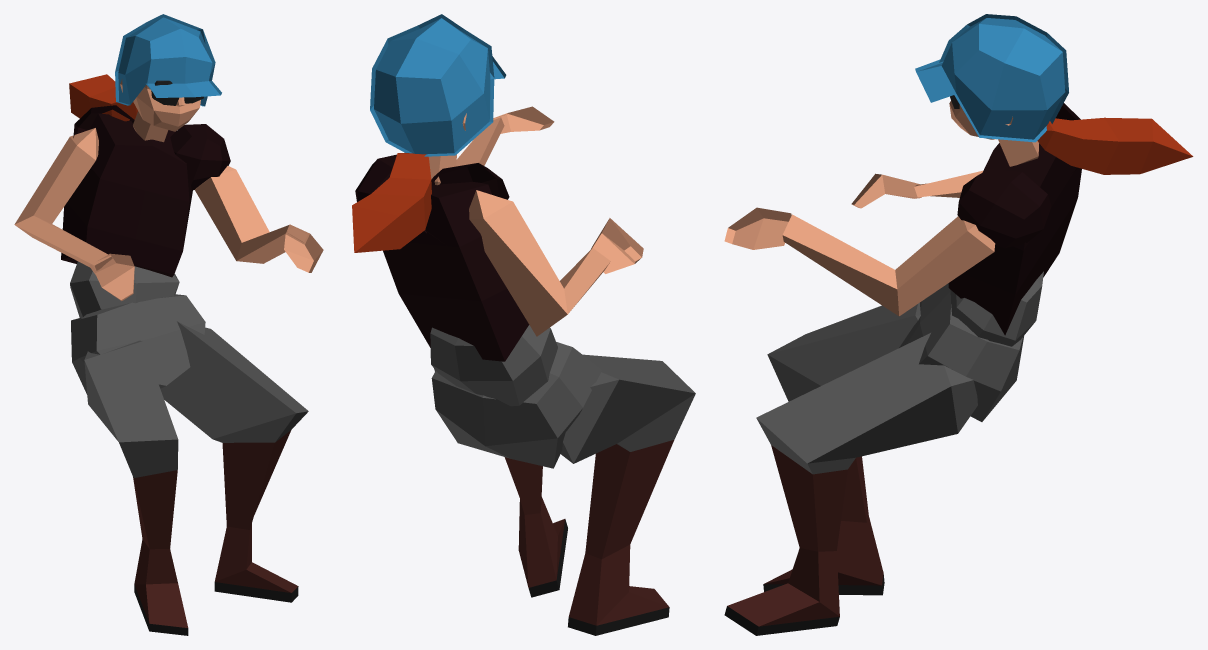
The model's file is girlRider.gltf.
The picture shows the model from 3 angles, left to right: view 1: azimuth 30°, elevation 25°; view 2: azimuth 150°, elevation 25°; view 3: azimuth 270°, elevation 25°; orthographic projection. The views are drawn at different scales.
Parts seen in each view (by area): view 1: GirlRider.000; view 2: GirlRider.000; view 3: GirlRider.000.
Boxes of the visible parts, x1,y1,x2,y2 form: GirlRider.000: [14, 14, 323, 635]; GirlRider.000: [352, 14, 695, 635]; GirlRider.000: [724, 14, 1193, 635].
Bounding box in the file's own units: 0.8683 × 2.27 × 1.55.
